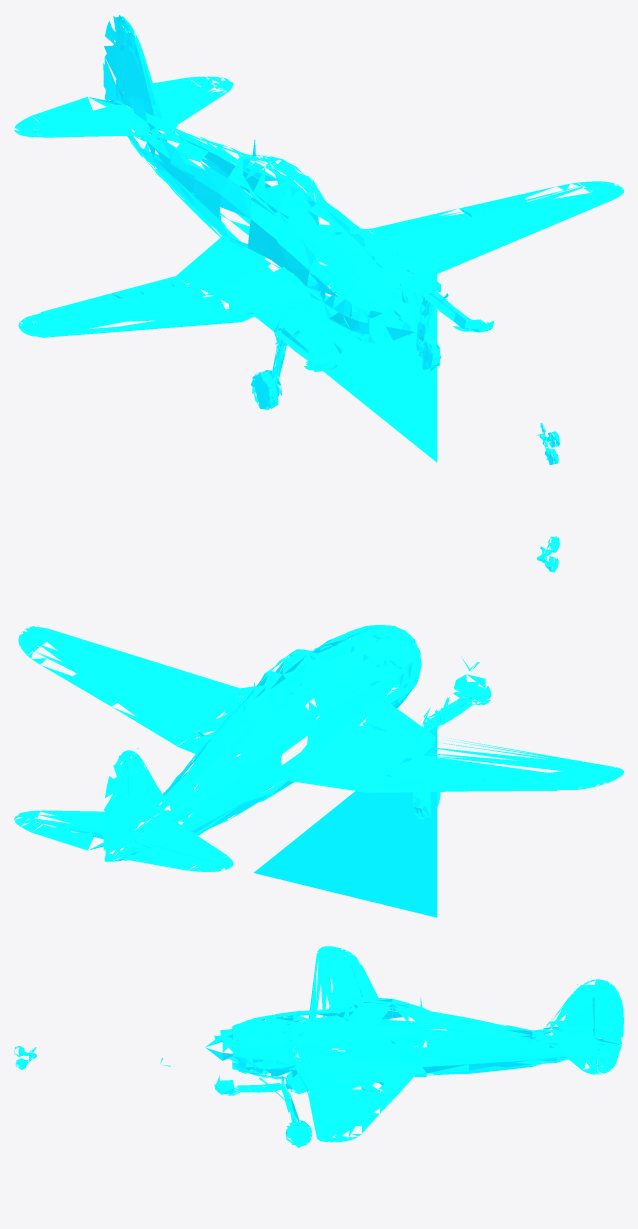
File: PRAL901.glb
3 renders of one model, top to bottom at view 1: azimuth 30°, elevation 25°; view 2: azimuth 150°, elevation 25°; view 3: azimuth 270°, elevation 25°, orthographic. The views are drawn at different scales.
Parts seen in each view (by area): view 1: misc; view 2: misc; view 3: misc.
Part boxes in pixels (bbox=[...]): misc: bbox=[14, 15, 623, 464]; misc: bbox=[14, 536, 623, 917]; misc: bbox=[14, 946, 623, 1147].
Size of the model in its own units: 0.6932 by 0.3392 by 0.9123.
